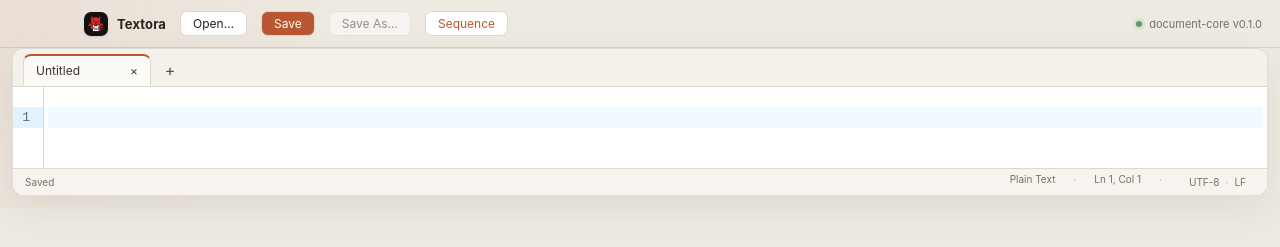
Test: App open flow › shows a retryable external reload failure and adopts the retry result
Click the button with class "open-button". click: click(214, 24)
box: [180,11,247,36]
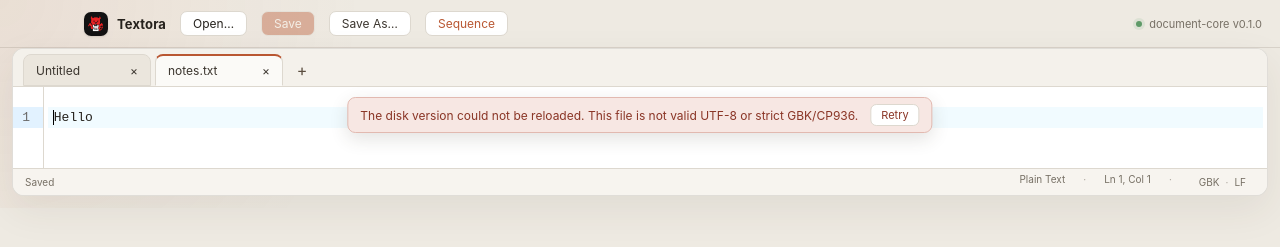
expect the message with class "notice-external-reload" shows "not valid UTF-8": met, box [588,108,858,122]
Click the button with class "notice-action". click: click(895, 115)
box: [870,104,920,126]
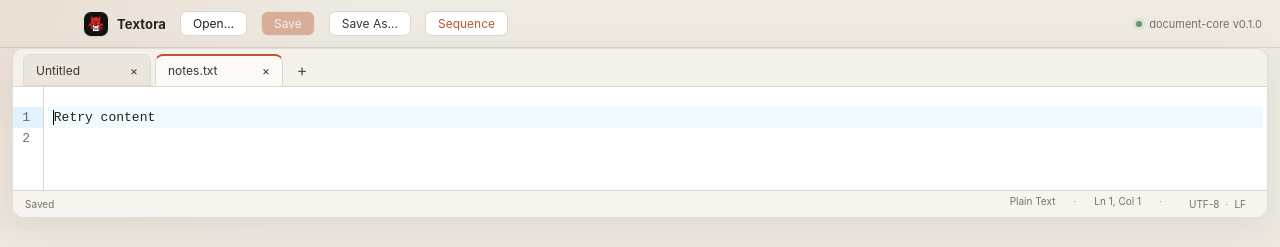
expect the field with class "cm-content" reads "Retry content": met, box [48,107,1263,128]
expect the message with class "notice-external-reload" is gone: met
